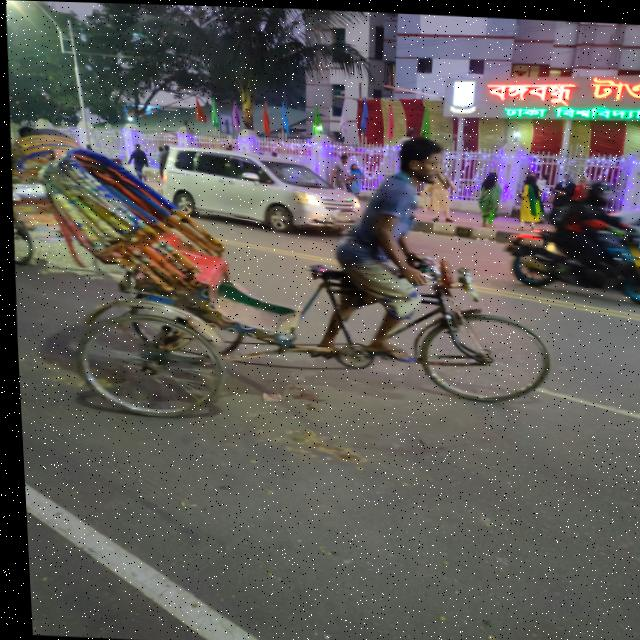rikshaw: (53, 121, 528, 473)
